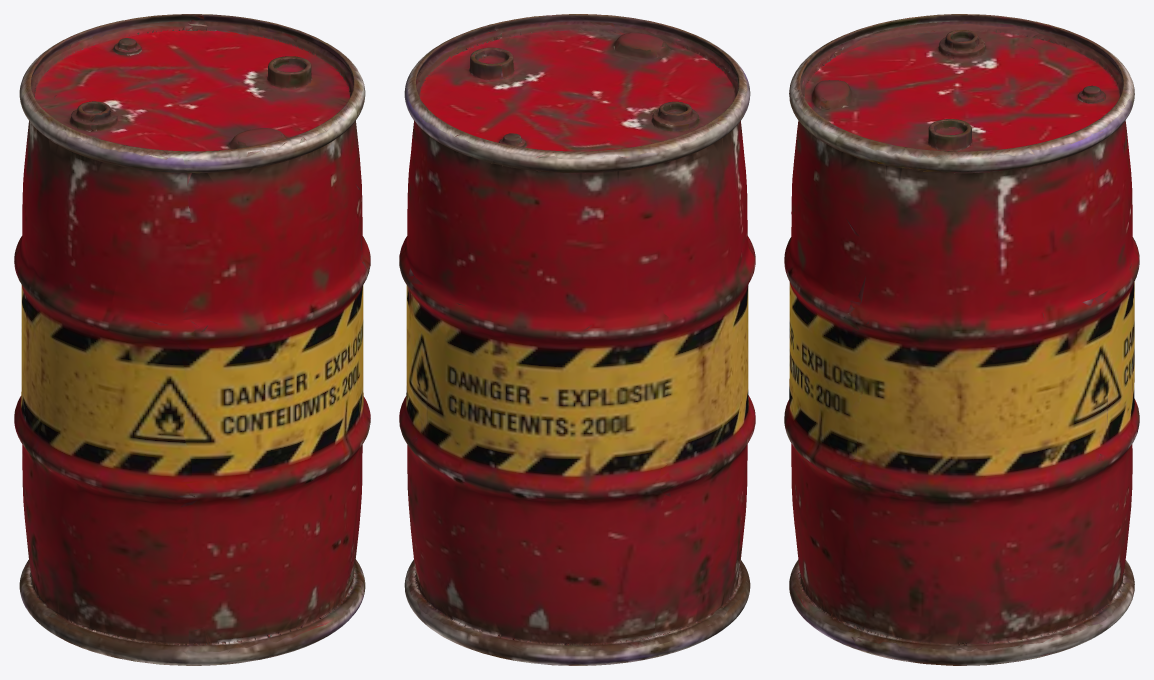
The model's file is barrel.glb.
The picture shows the model from 3 angles, left to right: view 1: azimuth 30°, elevation 25°; view 2: azimuth 150°, elevation 25°; view 3: azimuth 270°, elevation 25°; orthographic projection.
Parts seen in each view (by area): view 1: Mesh_0; view 2: Mesh_0; view 3: Mesh_0.
Part boxes in pixels (<box>): Mesh_0: <box>14,14,370,665</box>; Mesh_0: <box>399,14,755,665</box>; Mesh_0: <box>784,14,1139,665</box>.
Bounding box in the file's own units: 1.2 × 1.91 × 1.2.
Materials: 1 (1 with a texture image).
